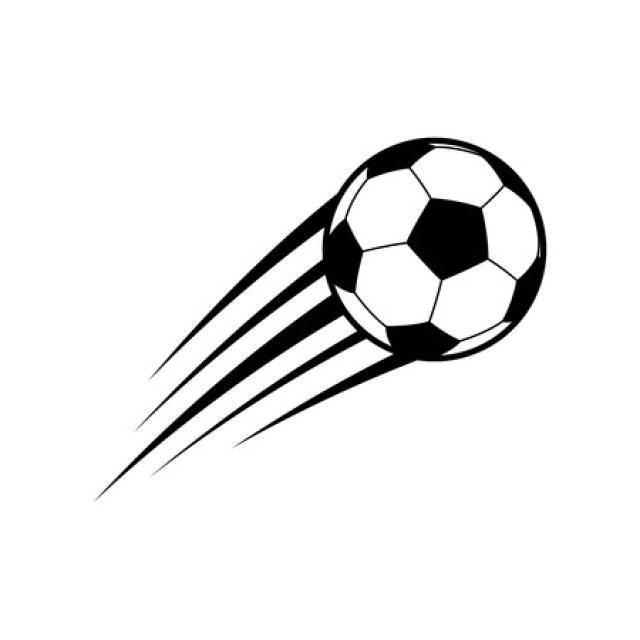soccer ball: (323, 138, 549, 360)
